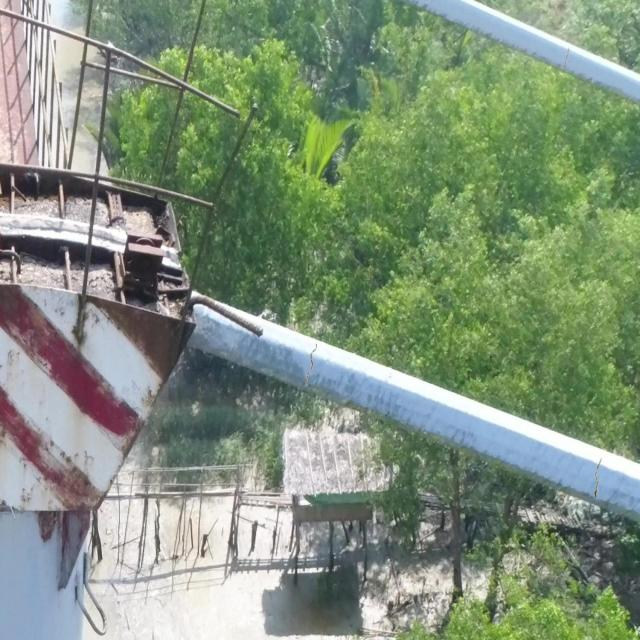crack: (302, 342, 320, 390), (591, 455, 603, 502), (562, 47, 570, 70)
